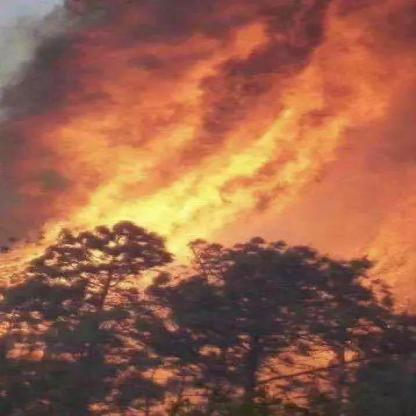fire: (19, 23, 411, 280)
